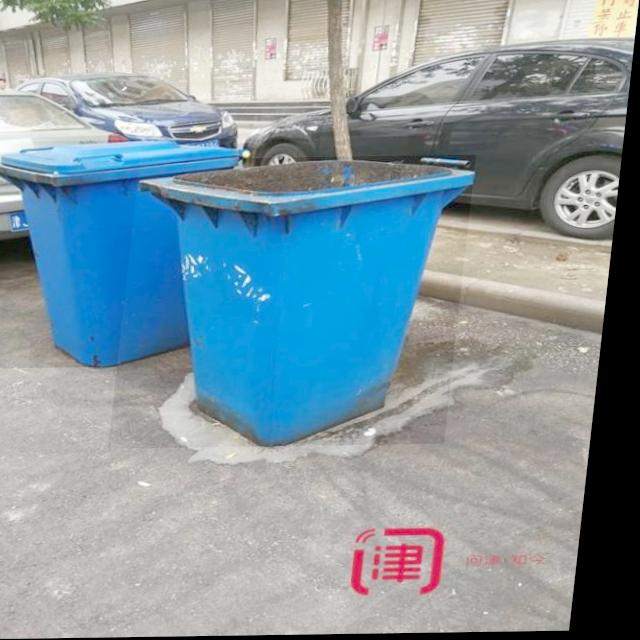garbage_bin: (118, 156, 480, 449), (0, 139, 253, 369)
